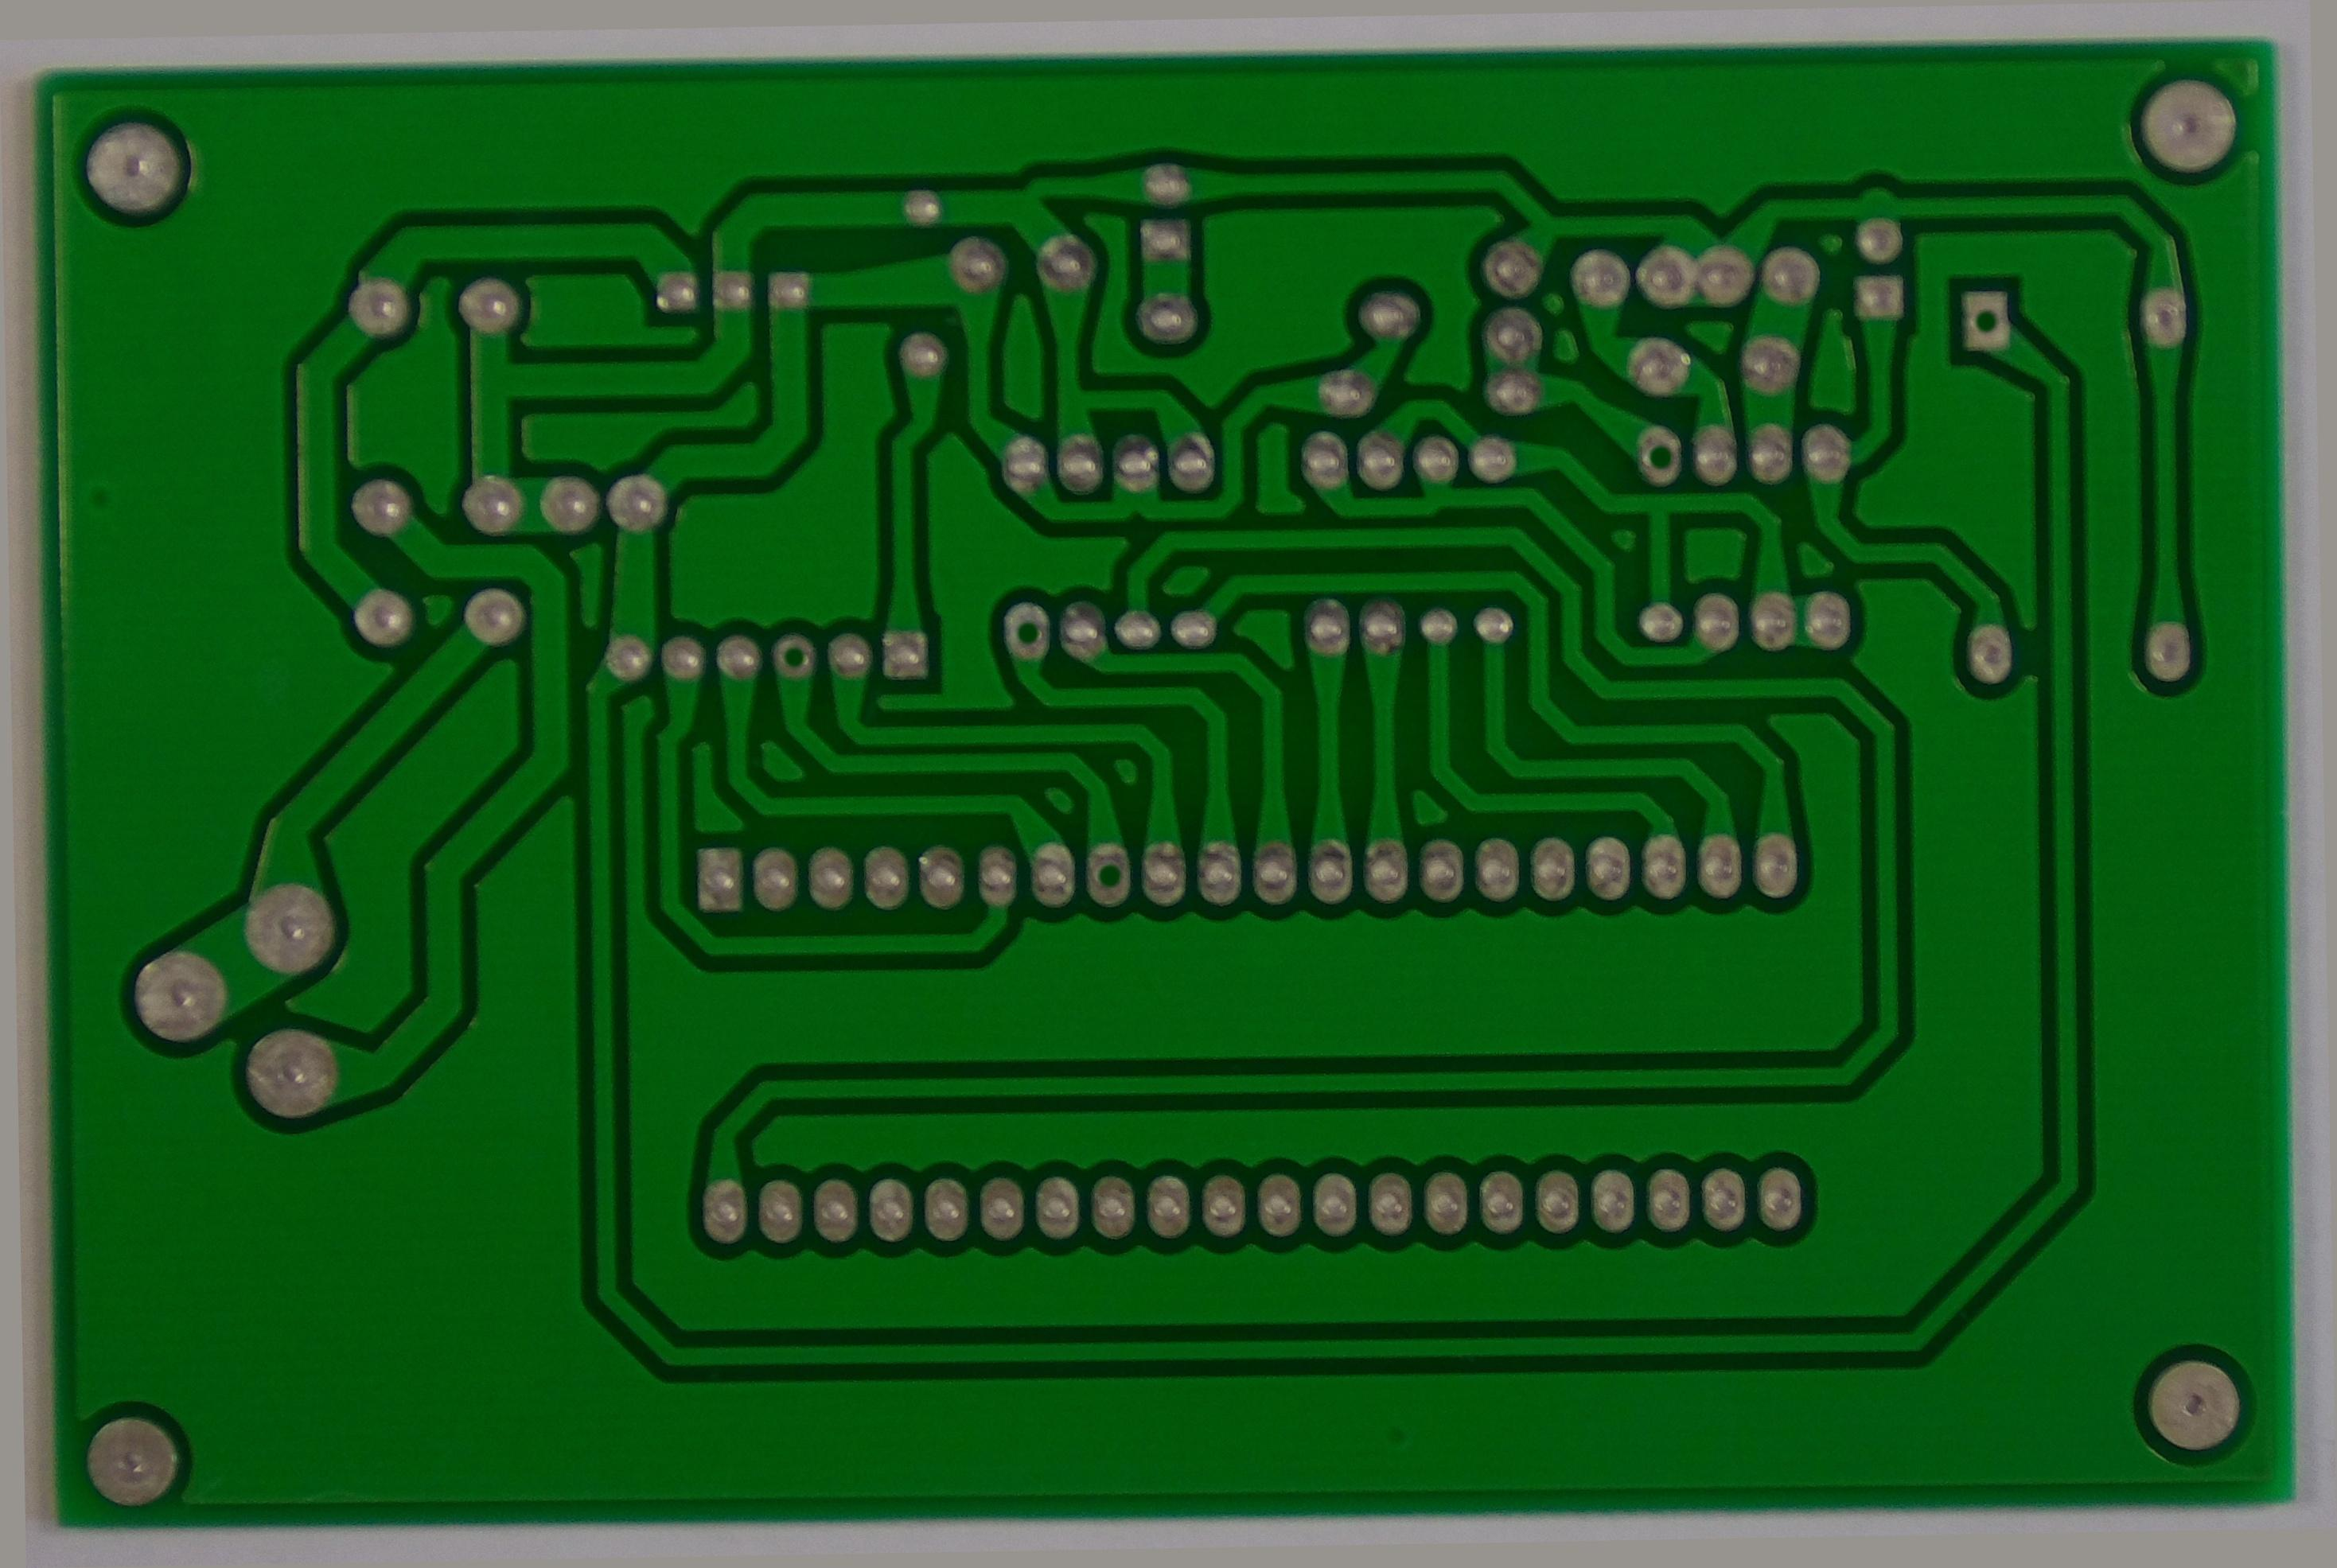missing_hole: (994, 584, 1061, 658), (1077, 840, 1140, 912), (1637, 420, 1700, 490), (1971, 290, 2032, 357), (763, 618, 821, 675)
